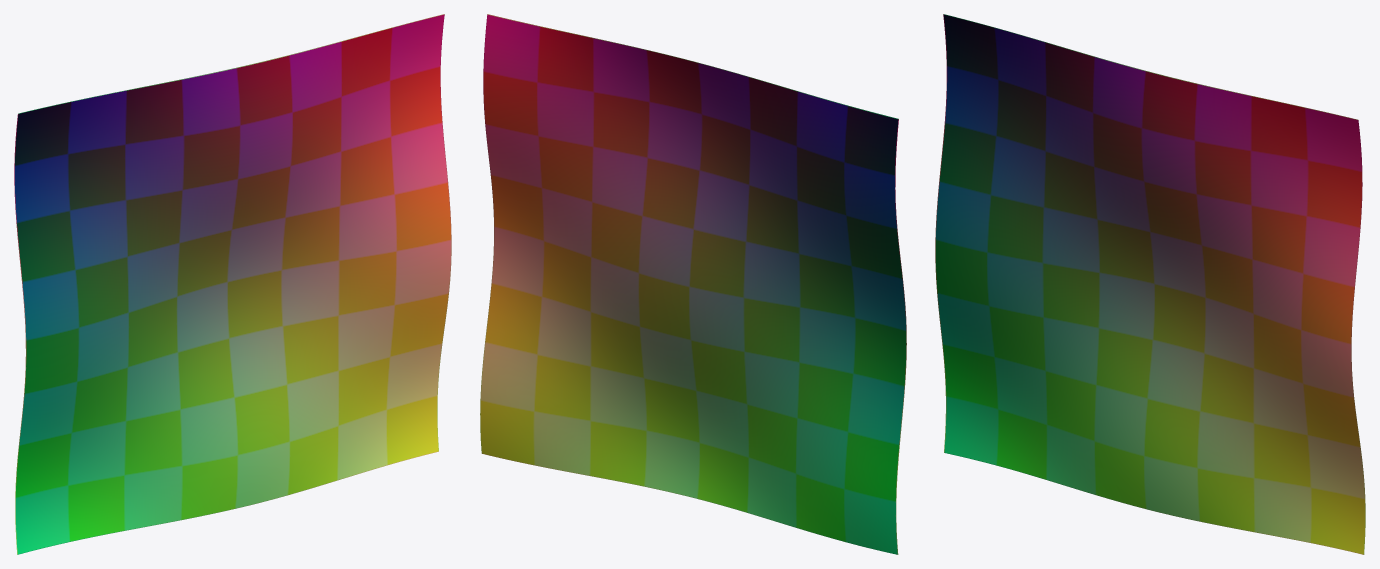
File: Tile_+008_+004.obj
The picture shows the model from 3 angles, left to right: view 1: azimuth 30°, elevation 25°; view 2: azimuth 150°, elevation 25°; view 3: azimuth 330°, elevation 25°; orthographic projection.
Size of the model in its own units: 100 by 100 by 6.27.
